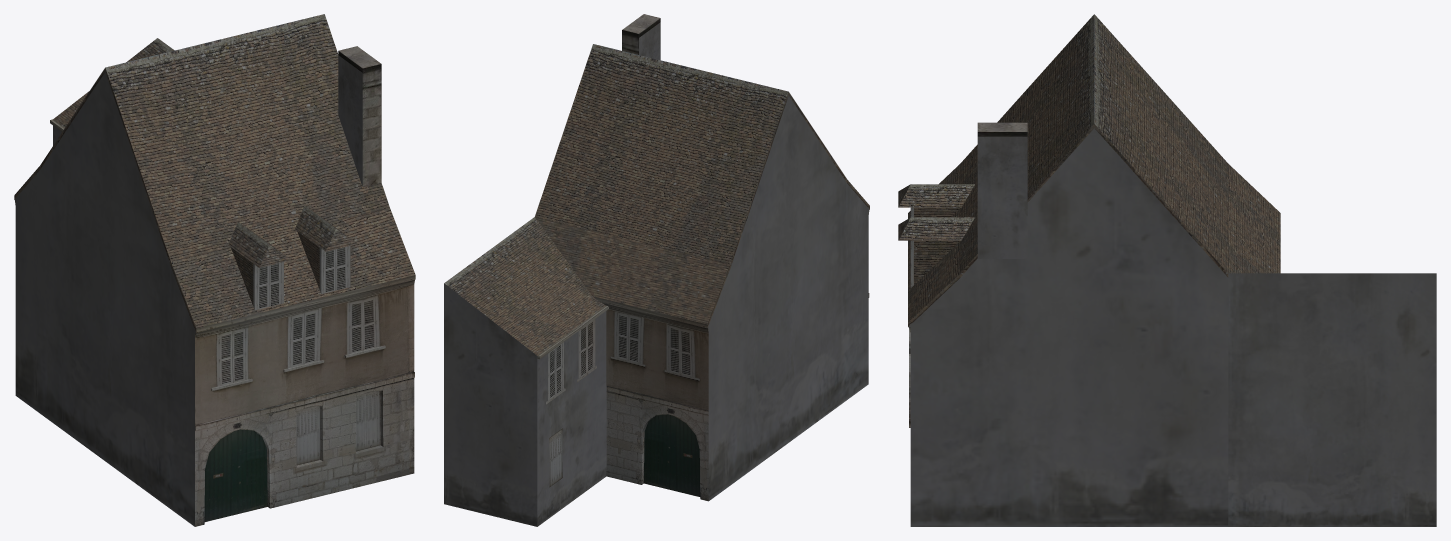
Rendered from bourges_house_2_france.glb.
The picture shows the model from 3 angles, left to right: view 1: azimuth 30°, elevation 25°; view 2: azimuth 150°, elevation 25°; view 3: azimuth 270°, elevation 25°; orthographic projection. The views are drawn at different scales.
Parts seen in each view (by area): view 1: 5_5_0; view 2: 5_5_0; view 3: 5_5_0.
Part boxes in pixels (<box>): 5_5_0: <box>14,14,415,526</box>; 5_5_0: <box>444,14,869,526</box>; 5_5_0: <box>898,14,1436,526</box>.
Size of the model in its own units: 7.4 by 12.7 by 15.35.
Materials: 1 (1 with a texture image).
